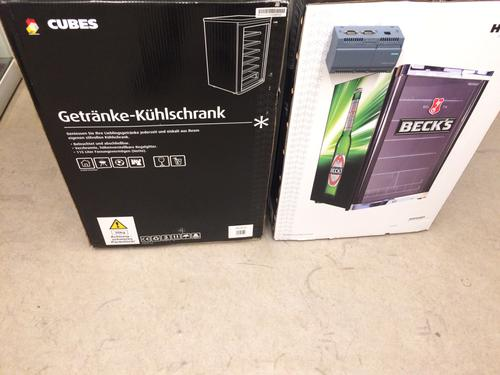iot2000: (325, 25, 406, 76)
